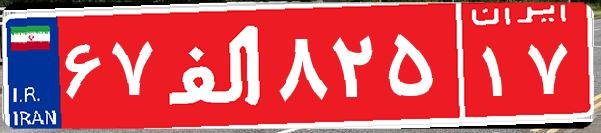1: (475, 38, 525, 113)
2: (330, 28, 385, 110)
5: (385, 28, 445, 110)
6: (57, 26, 110, 107)
7: (110, 28, 158, 105), (525, 38, 570, 115)
8: (273, 28, 330, 110)
الف: (158, 15, 273, 115)
